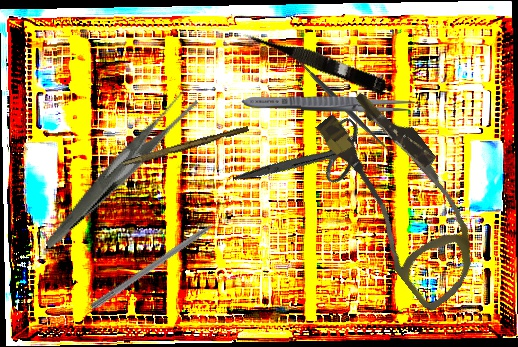Cannula: (295, 80, 510, 314)
Dressing Forceps: (12, 86, 226, 249), (240, 93, 419, 114)
Iris Scissors: (232, 85, 377, 234)
Micro Scissor: (240, 23, 390, 96)
Pusher: (89, 208, 236, 313)
Scalpel Handle: (122, 123, 250, 170)
Spatula Surgical: (284, 47, 395, 158)
